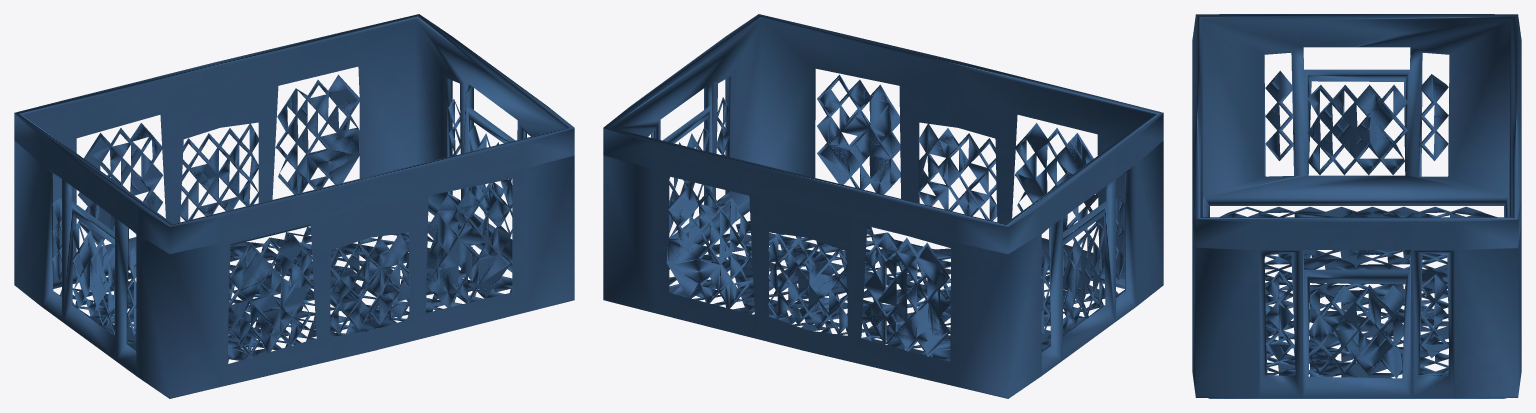
File: crate.glb
3 renders of one model, left to right at view 1: azimuth 30°, elevation 25°; view 2: azimuth 150°, elevation 25°; view 3: azimuth 270°, elevation 25°, orthographic. The views are drawn at different scales.
Visible parts, largest first — view 1: sm_crate_a01_mesh_00; view 2: sm_crate_a01_mesh_00; view 3: sm_crate_a01_mesh_00.
Part boxes in pixels (x1,y1,x2,y2): sm_crate_a01_mesh_00: (14, 14, 574, 398); sm_crate_a01_mesh_00: (603, 14, 1163, 398); sm_crate_a01_mesh_00: (1192, 14, 1521, 398).
Bounding box in the file's own units: 0.6051 × 0.2521 × 0.4051.
1 material, 1 textured.
